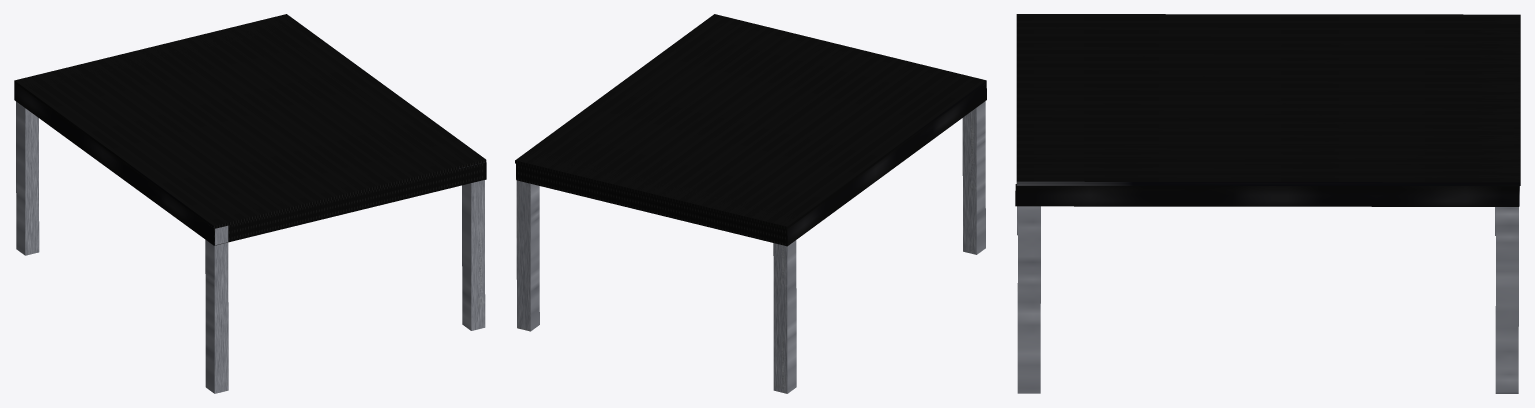
File: tent.dae
3 renders of one model, left to right at view 1: azimuth 30°, elevation 25°; view 2: azimuth 150°, elevation 25°; view 3: azimuth 270°, elevation 25°, orthographic. The views are drawn at different scales.
Parts seen in each view (by area): view 1: Cube_008; view 2: Cube_008; view 3: Cube_008.
Part boxes in pixels (x1,y1,x2,y2): Cube_008: (14, 14, 486, 393); Cube_008: (515, 14, 986, 393); Cube_008: (1015, 14, 1520, 393).
Bounding box in the file's own units: 5.07 × 6.45 × 3.
Materials: 9 (9 with a texture image).
